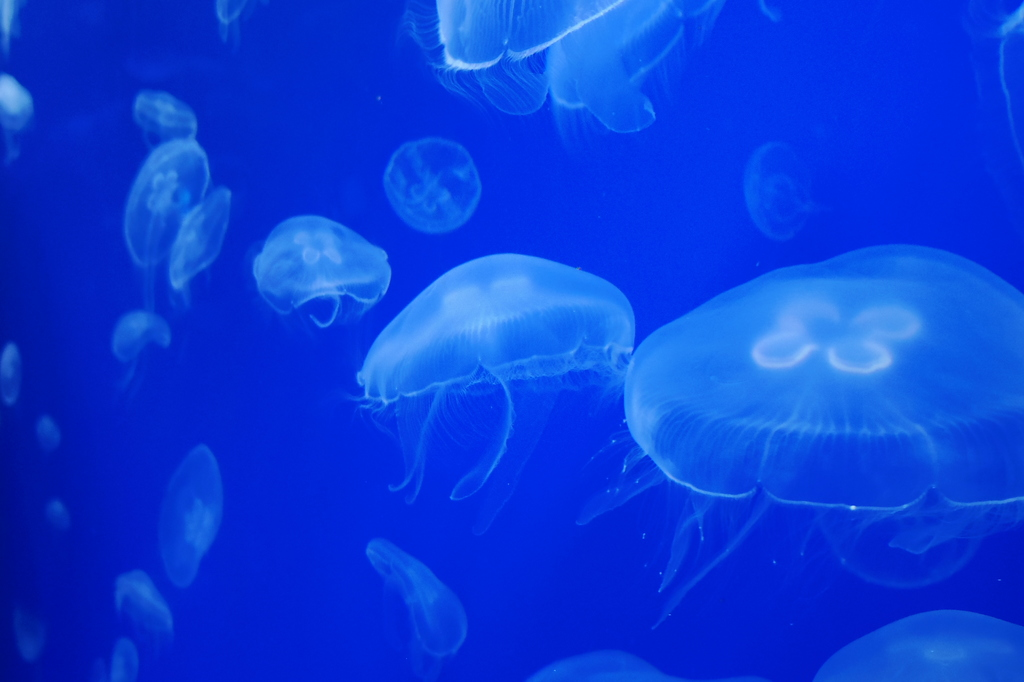Jellyfish: (576, 240, 1023, 635), (356, 252, 640, 529), (397, 0, 778, 162), (251, 213, 391, 333), (366, 535, 473, 681), (816, 608, 1023, 681), (120, 140, 211, 277), (157, 443, 225, 592), (381, 135, 482, 234), (162, 186, 234, 319), (108, 310, 172, 398), (112, 576, 172, 663), (533, 646, 671, 681), (131, 92, 196, 156), (108, 637, 146, 681)
